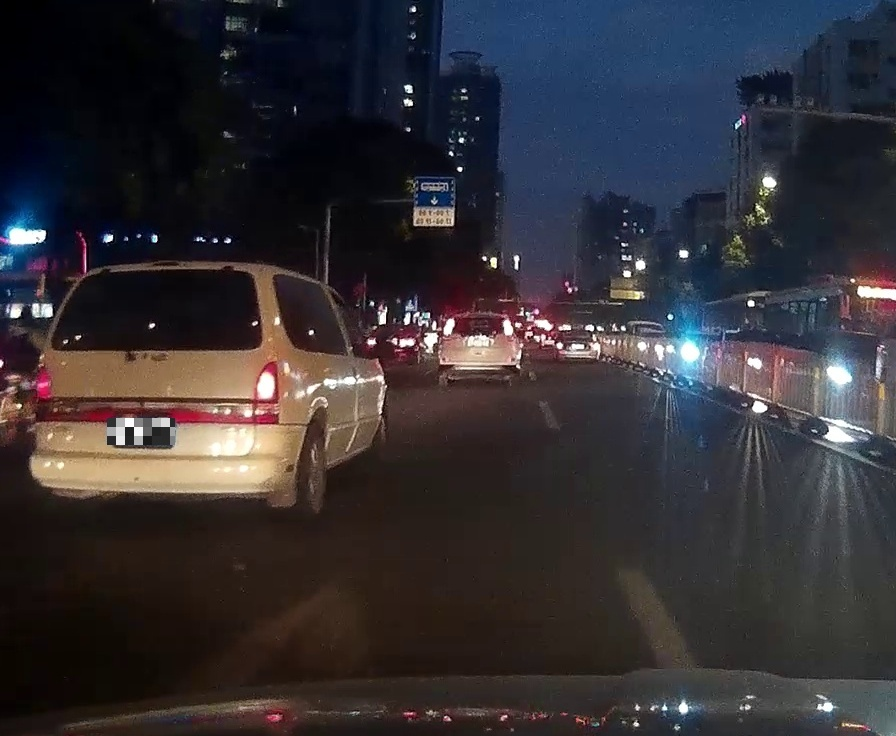L_light: (34, 363, 51, 420), (440, 317, 455, 337)
R_light: (252, 359, 281, 424), (501, 317, 515, 337)
T_light: (146, 262, 182, 271), (468, 314, 483, 319)
night-no: (436, 312, 519, 386)
night-right: (29, 257, 307, 525)
plate_1: (107, 418, 175, 445)
